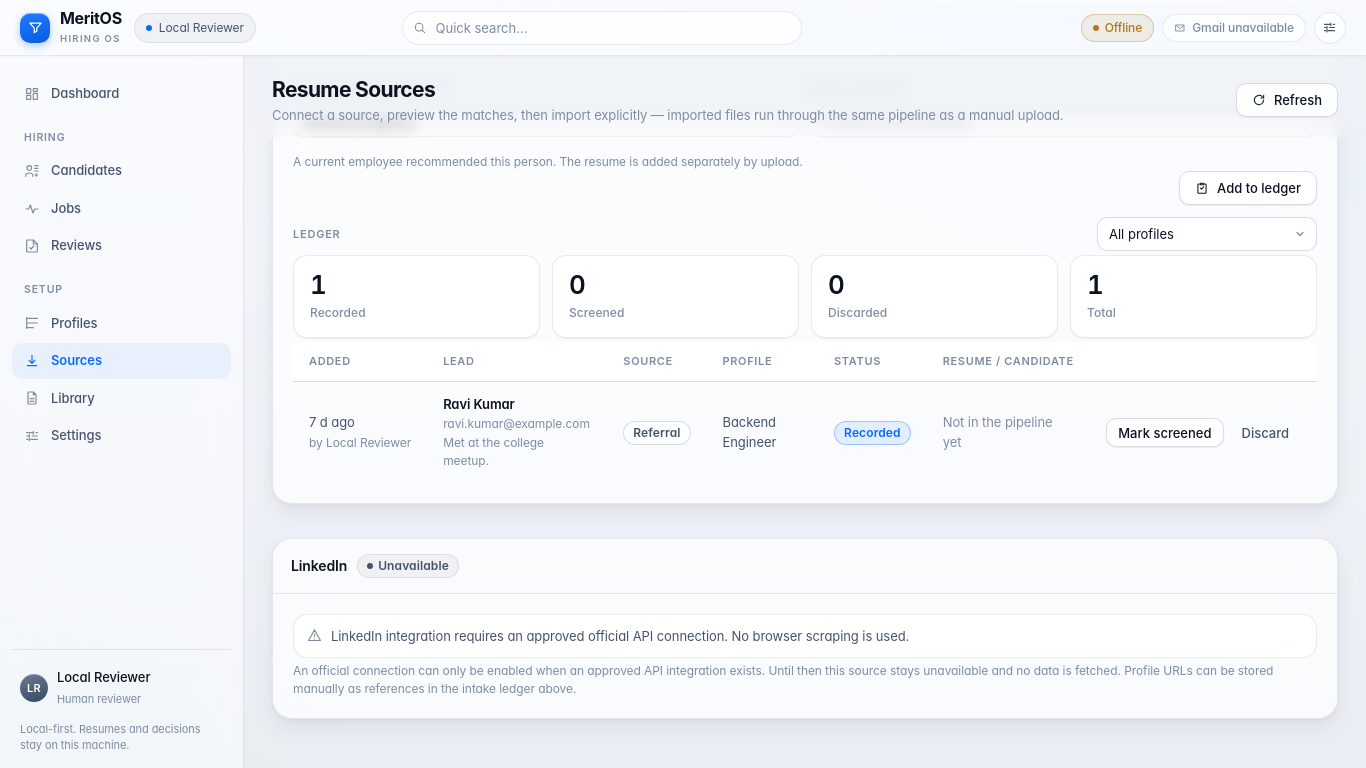
Test: manual intake ledger › moves a record through its status with an explicit action only
The width and height of the screenshot is (1366, 768).
(page scrolled)
Check: the heading "Resume Sources" is shown, box [272,77,435,102]
Check: the text "Recorded" in the row of "7 d ago" is shown, box [844,425,901,440]
Click the button "Mark screened" at {"x": 1165, "y": 433}, box [1106,418,1224,447]
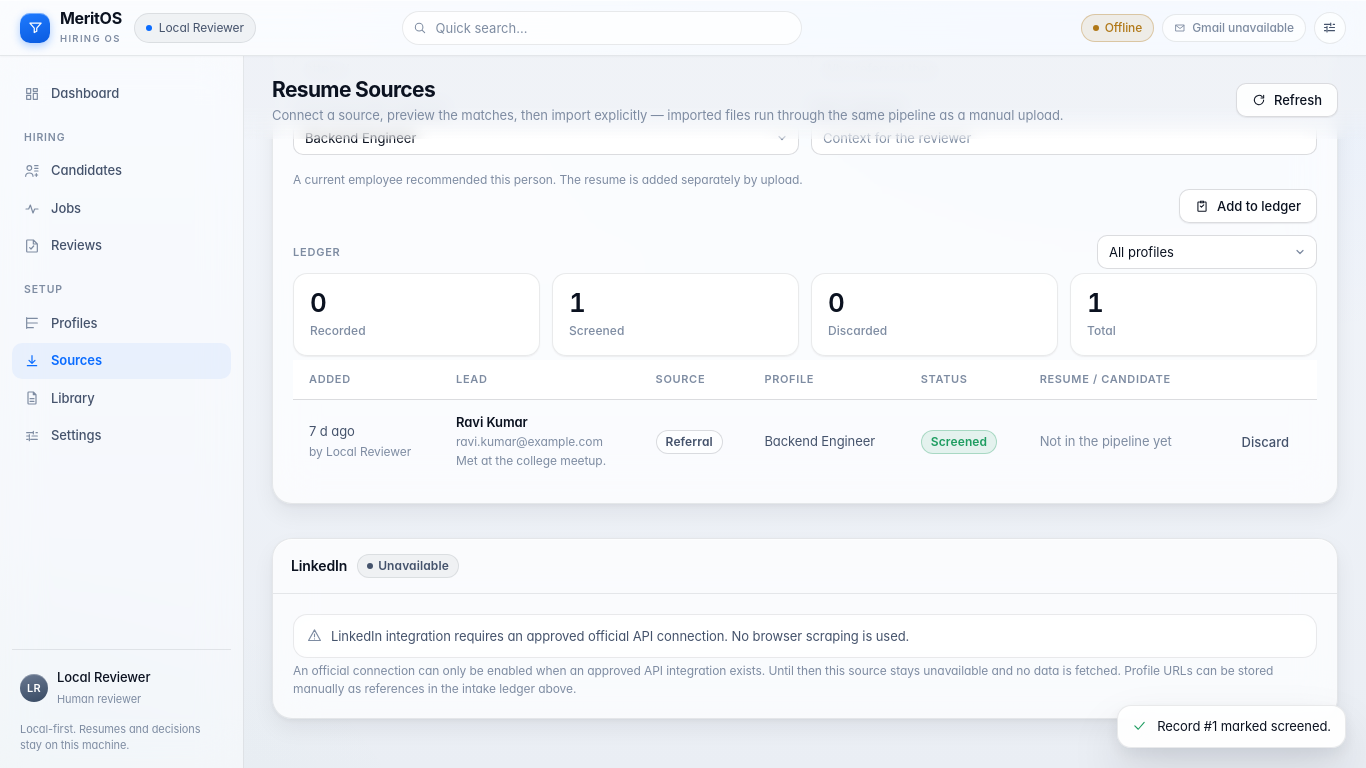
Check: the button "Discard" is shown, box [1230,427,1301,456]
Check: the text "Screened" in the row of "7 d ago" is shown, box [931,434,987,449]
Check: the button "Mark screened" is gone
